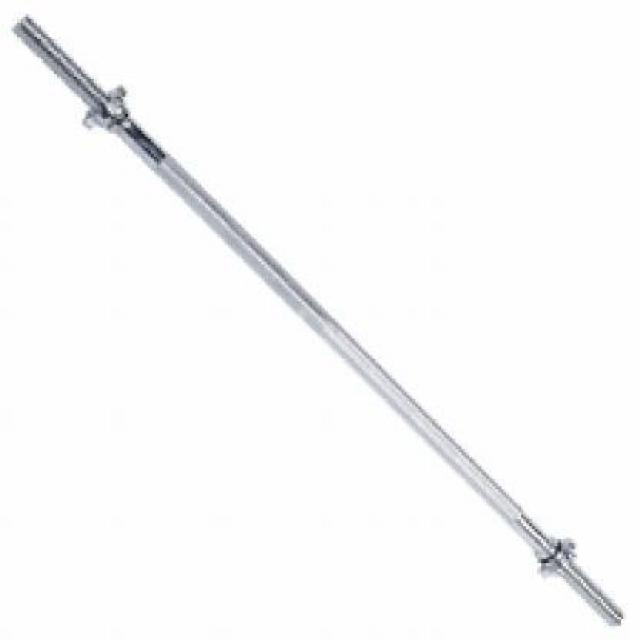Barbell: (2, 3, 46, 57)
